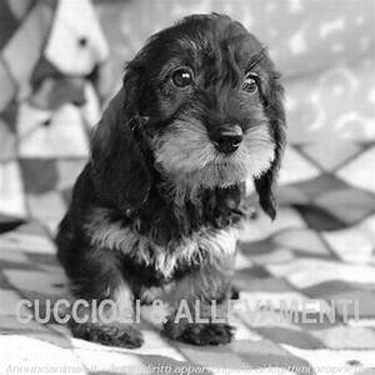dog: (31, 2, 299, 357)
